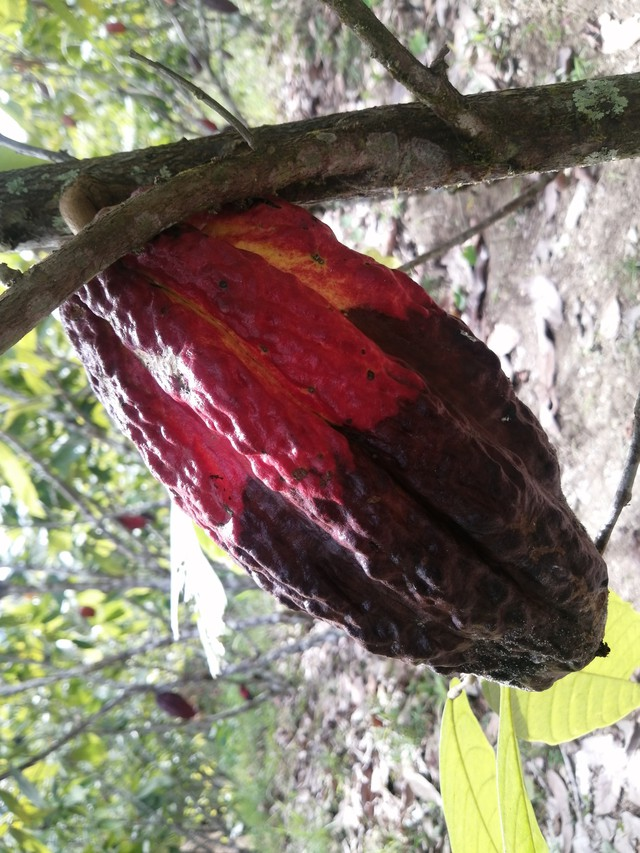phytophthora palmivora: (45, 160, 623, 716)
